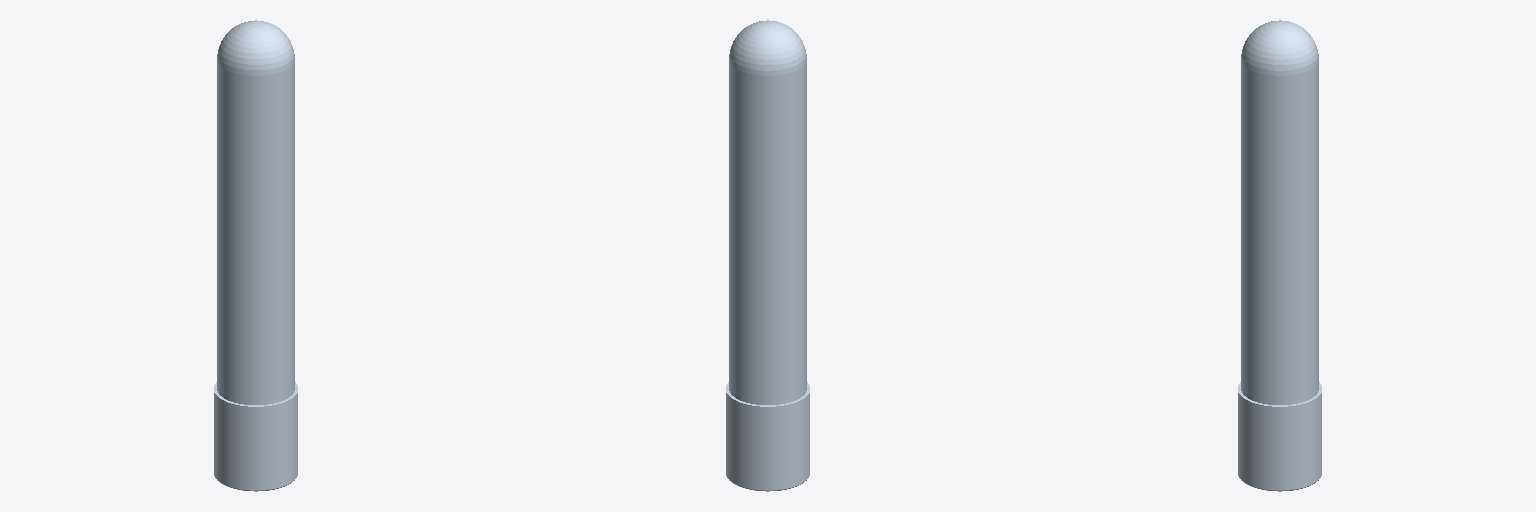
URDF robot description (tube):
<?xml version="1.0"?>
<robot name="tube">
  <link name="base_link">
    <visual>
      <origin xyz="0 0 0" rpy="0 0 0"/>
      <geometry>
        <mesh filename="tube.obj" scale="1 1 1"/>
      </geometry>
      <material name="tube_material">
        <color rgba="0.85 0.9 0.95 0.9"/>
      </material>
    </visual>
    <!-- Use simple cylinder for collision instead of mesh -->
    <!-- This prevents merging/tunneling issues -->
    <collision>
      <origin xyz="0 0 0" rpy="0 0 0"/>
      <geometry>
        <!-- Tube dimensions: 18mm diameter, 105mm height -->
        <cylinder radius="0.009" length="0.105"/>
      </geometry>
    </collision>
    <inertial>
      <origin xyz="0 0 0" rpy="0 0 0"/>
      <mass value="0.020"/>
      <inertia ixx="0.00002" ixy="0" ixz="0" 
               iyy="0.00002" iyz="0" 
               izz="0.000001"/>
    </inertial>
  </link>
</robot>

--- Render facts (derived) ---
3 views of the same robot in one strip: view 1: azimuth 30°, elevation 25°; view 2: azimuth 150°, elevation 25°; view 3: azimuth 270°, elevation 25° (orthographic).
Model tube with 1 links and 0 joints (none), rooted at base_link, posed all joints at 0.
Links seen in each view (by area): view 1: base_link; view 2: base_link; view 3: base_link.
Link boxes in pixels (bbox=[...]): base_link: bbox=[214, 20, 297, 491]; base_link: bbox=[726, 20, 809, 491]; base_link: bbox=[1238, 20, 1321, 491].
Size in the robot's own frame: 0.018 by 0.018 by 0.1054 metres.
Meshes: 1 distinct files referenced, 1 mesh visuals loaded (1 OBJ).
